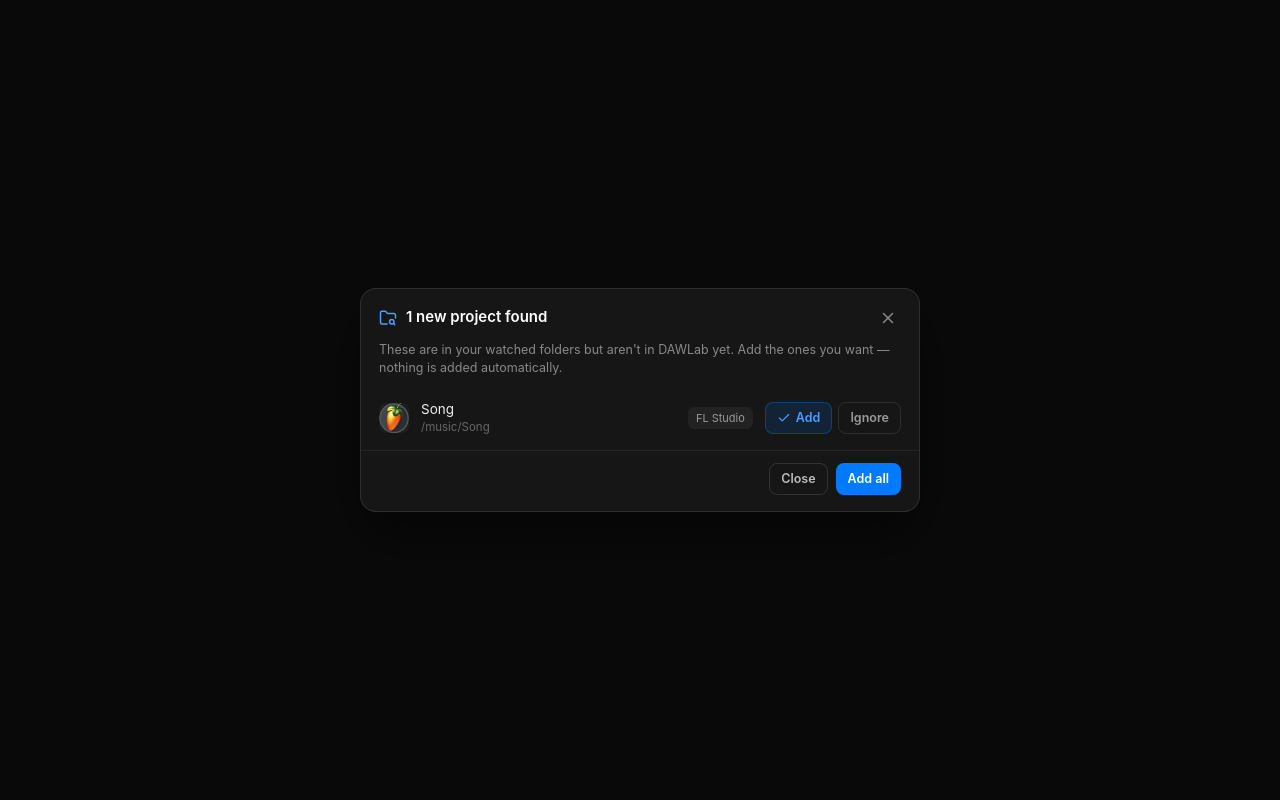
Test: FoundProjectsPanel › surfaces an error and keeps the project when the add fails for another reason
The image size is (1280, 800).
Click the button "Add" at (799, 418), box [765,402,832,434]
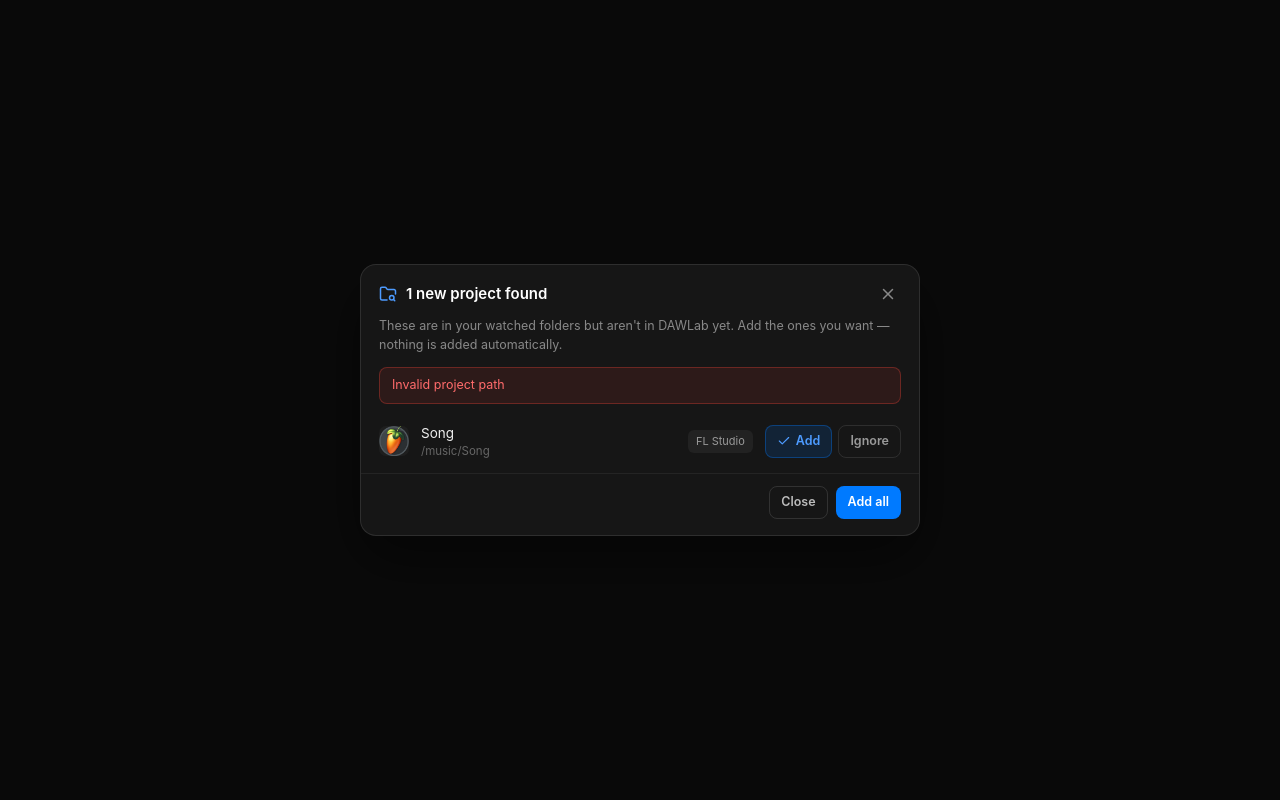
Expected: the text "Invalid project path" is shown, [379,367,901,404]
